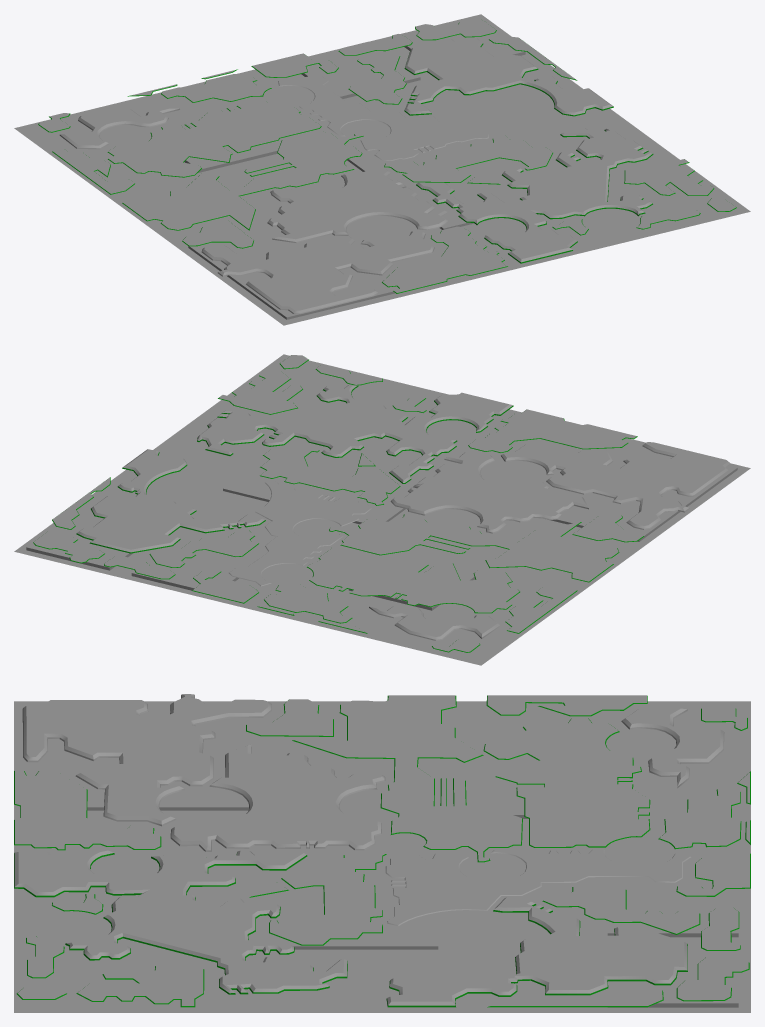
Rendered from ground1b lod0.FBX.
3 renders of one model, top to bottom at view 1: azimuth 30°, elevation 25°; view 2: azimuth 150°, elevation 25°; view 3: azimuth 270°, elevation 25°, orthographic. The views are drawn at different scales.
Visible parts, largest first — view 1: Object012; view 2: Object012; view 3: Object012.
Boxes of the visible parts, x1=… form: Object012: x1=14, y1=14, x2=750, y2=325; Object012: x1=14, y1=354, x2=750, y2=665; Object012: x1=14, y1=694, x2=750, y2=1012.
Bounding box in the file's own units: 4 × 0.0685 × 4.
